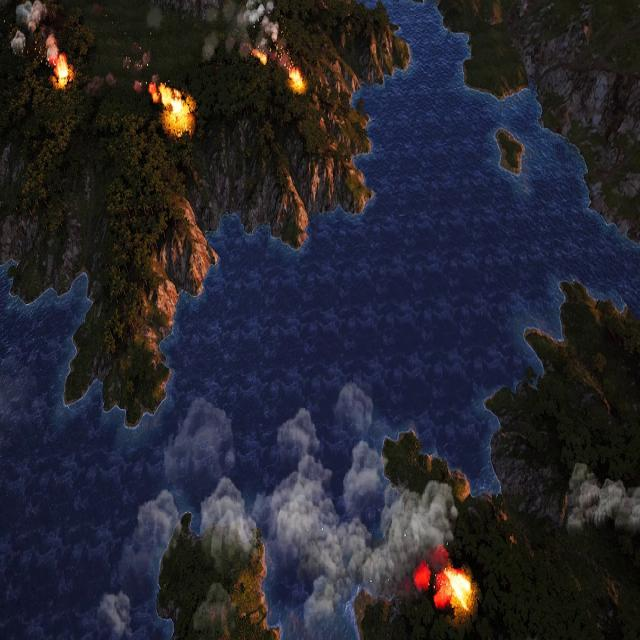fire: (158, 81, 194, 133), (435, 566, 473, 613), (55, 54, 73, 85), (288, 68, 304, 92), (256, 51, 266, 66)
smoke: (113, 379, 457, 633), (566, 463, 638, 536), (0, 0, 58, 59), (239, 0, 279, 50), (97, 588, 134, 640), (125, 50, 160, 104)
